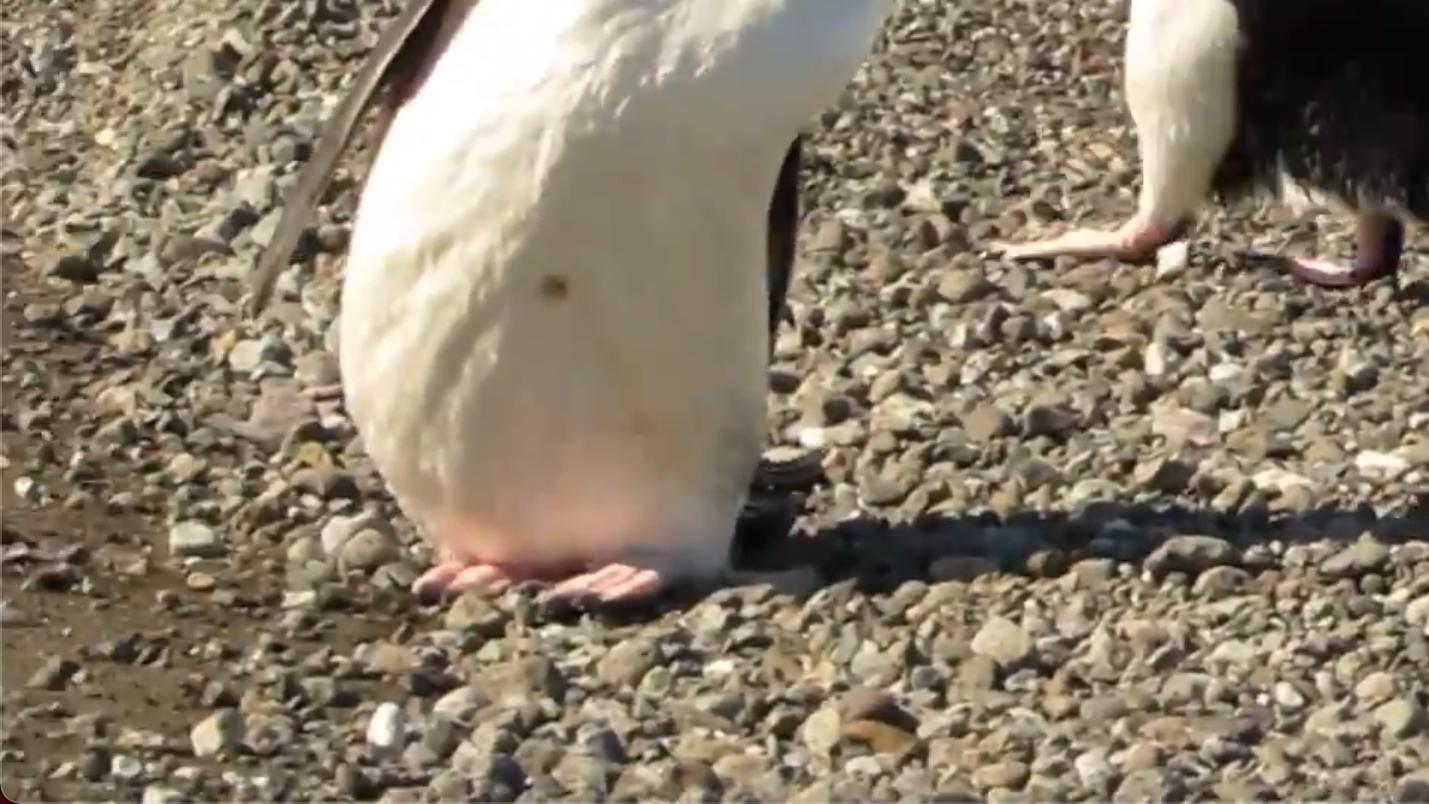Chinstrap Penguin: (260, 0, 1060, 635), (796, 0, 1429, 280), (1329, 0, 1429, 510)
